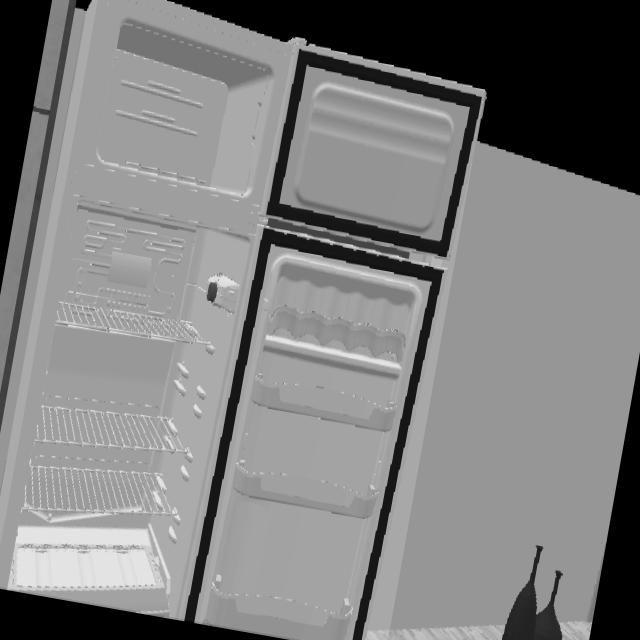fridge: (0, 0, 484, 640)
